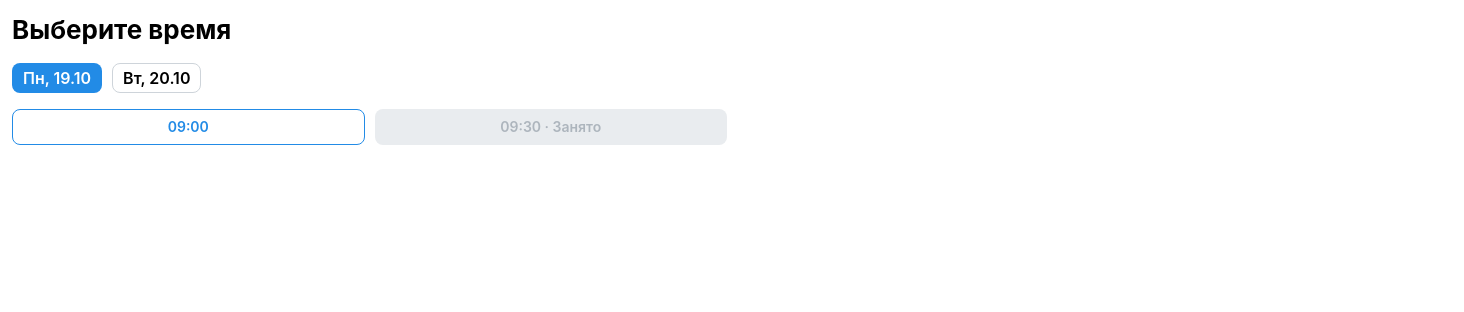
BookSlot › shows validation errors for an empty form
Click the button "09:00": [188, 127] box [12,109,364,145]
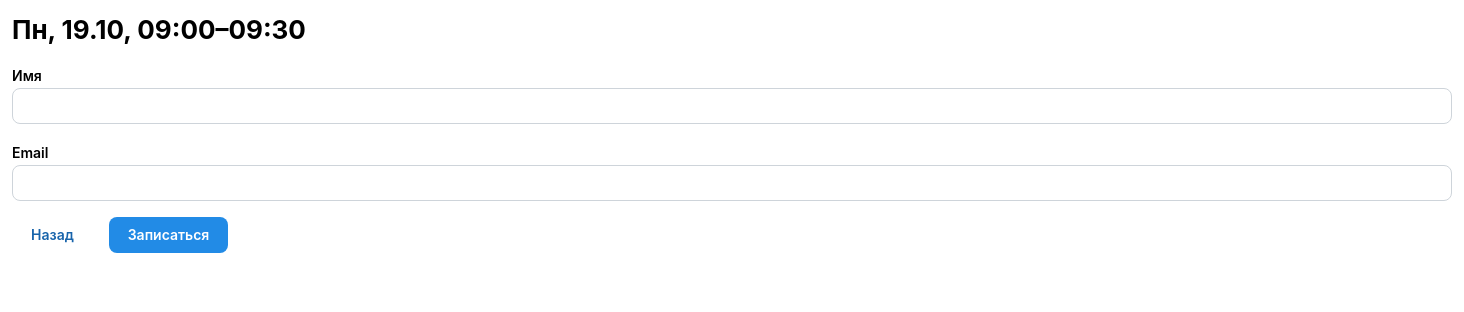
Click the button "Записаться": [168, 235] box [109,217,228,253]
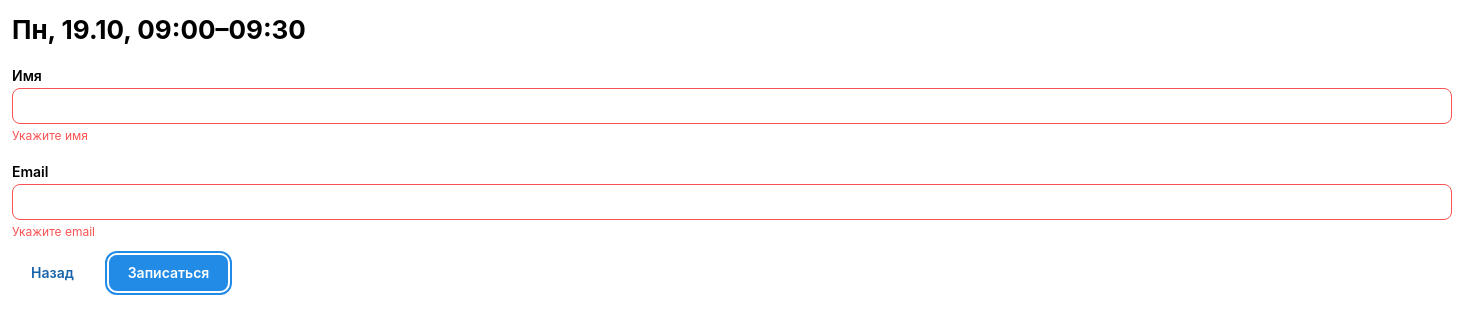
Check: the text "Укажите имя" is shown, box [12,128,88,143]
Check: the text "Укажите email" is shown, box [12,224,95,239]
